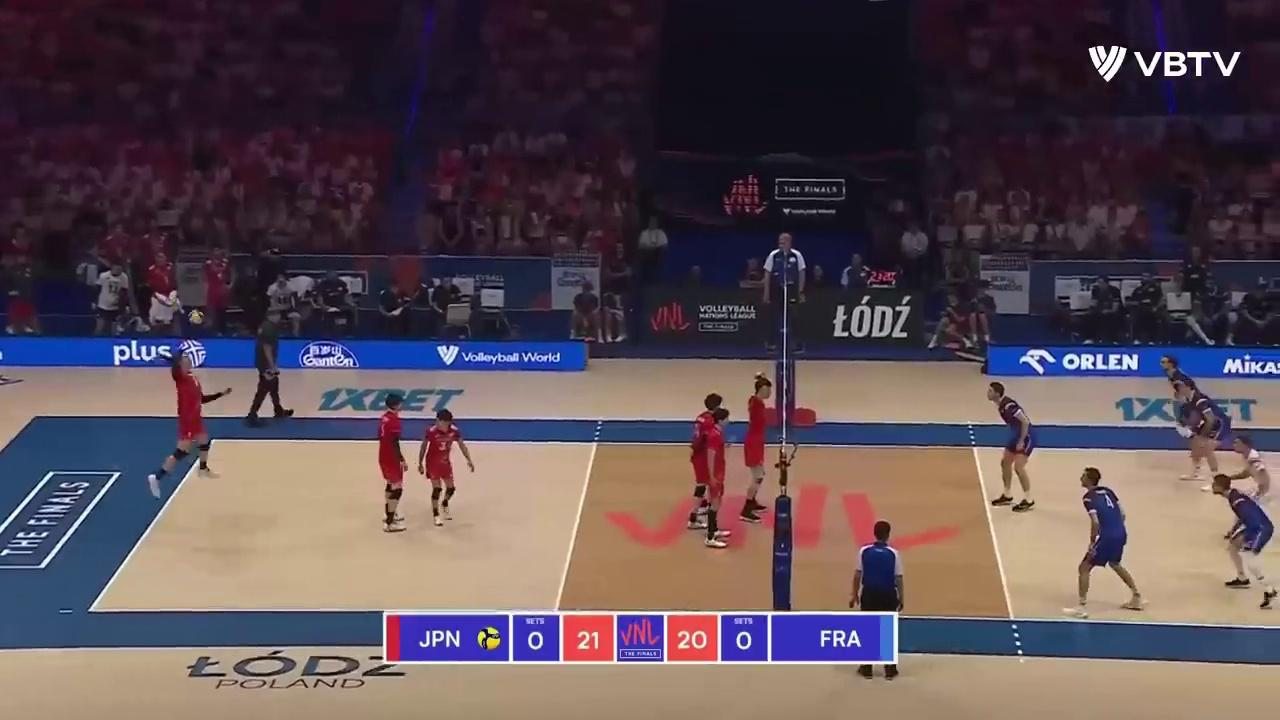ball: (188, 308, 205, 324)
